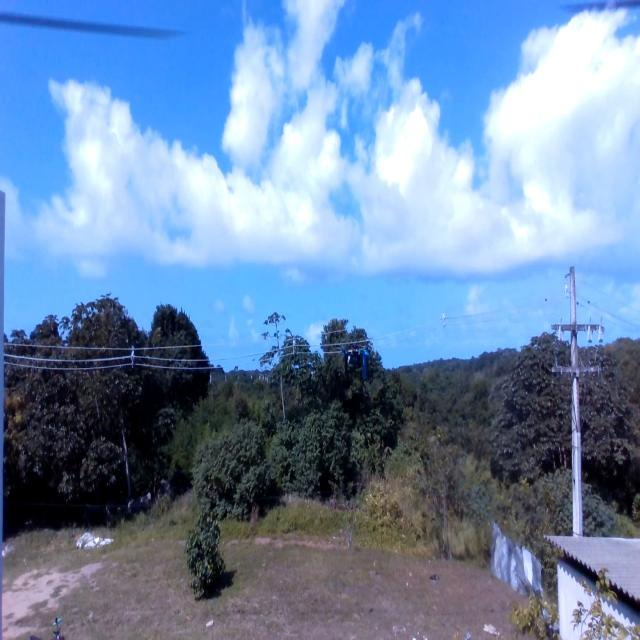-uav-: (335, 334, 378, 386)
